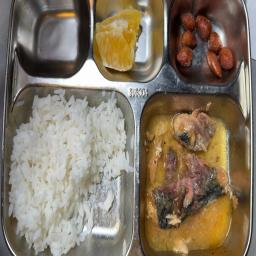25_nuts: (171, 2, 245, 84)
50_fish: (138, 90, 243, 249)
50_orange: (95, 1, 164, 79)
75_rice: (10, 88, 130, 254)
empty: (20, 5, 88, 72)
